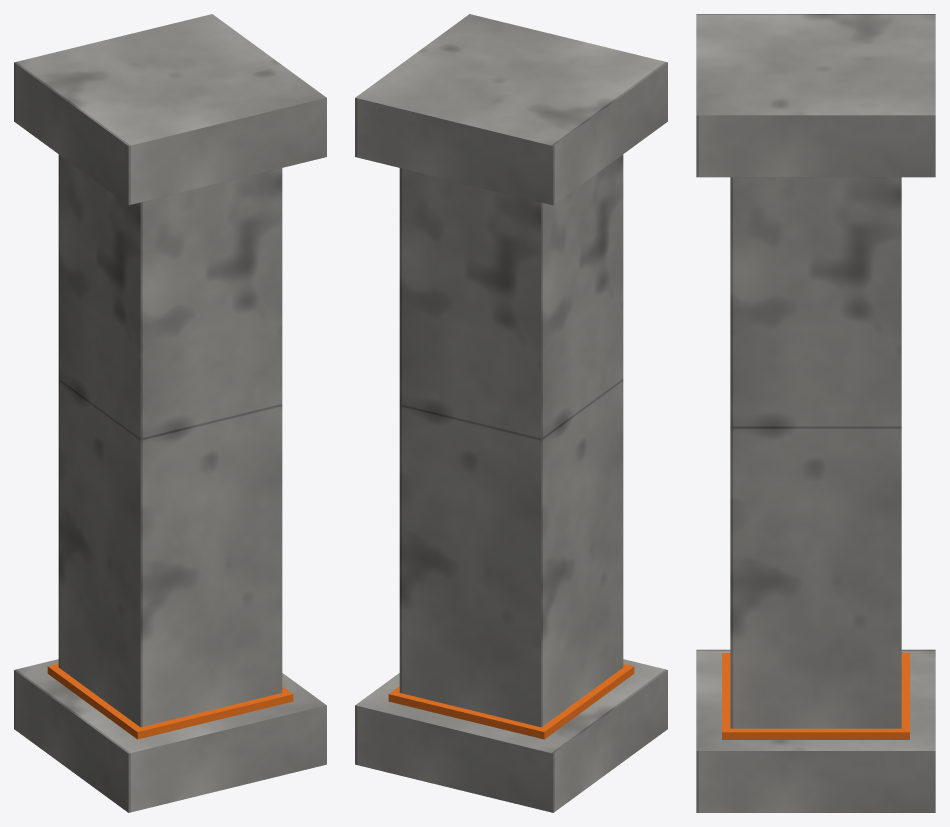
File: pillar.obj
3 views of the same model, side by side, from view 1: azimuth 30°, elevation 25°; view 2: azimuth 150°, elevation 25°; view 3: azimuth 270°, elevation 25° (orthographic). The views are drawn at different scales.
Visible parts, largest first — view 1: Concrete_0, Trim_1; view 2: Concrete_0, Trim_1; view 3: Concrete_0, Trim_1.
Boxes of the visible parts, <box> form: Concrete_0: <box>14,14,326,812</box>; Trim_1: <box>47,663,293,739</box>; Concrete_0: <box>355,14,667,812</box>; Trim_1: <box>388,663,634,739</box>; Concrete_0: <box>696,14,935,812</box>; Trim_1: <box>722,653,909,739</box>.
Size of the model in its own units: 1.4 by 4.5 by 1.4.
2 materials, 1 textured.
